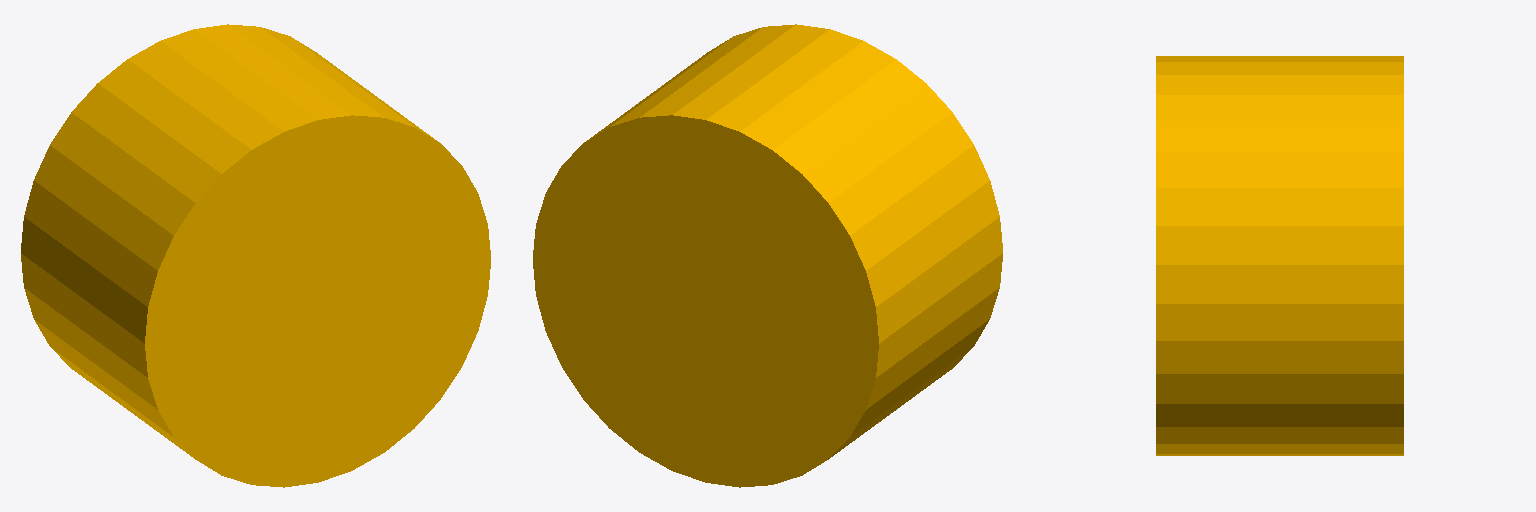
Rendered from Cubee.obj.
3 views of the same model, side by side, from view 1: azimuth 30°, elevation 25°; view 2: azimuth 150°, elevation 25°; view 3: azimuth 270°, elevation 25° (orthographic).
Parts seen in each view (by area): view 1: Cubee; view 2: Cubee; view 3: Cubee.
Boxes of the visible parts, x1,y1,x2,y2 form: Cubee: [21, 24, 490, 487]; Cubee: [533, 24, 1002, 487]; Cubee: [1156, 56, 1403, 455].
Bounding box in the file's own units: 0.6401 × 0.6401 × 0.3971.